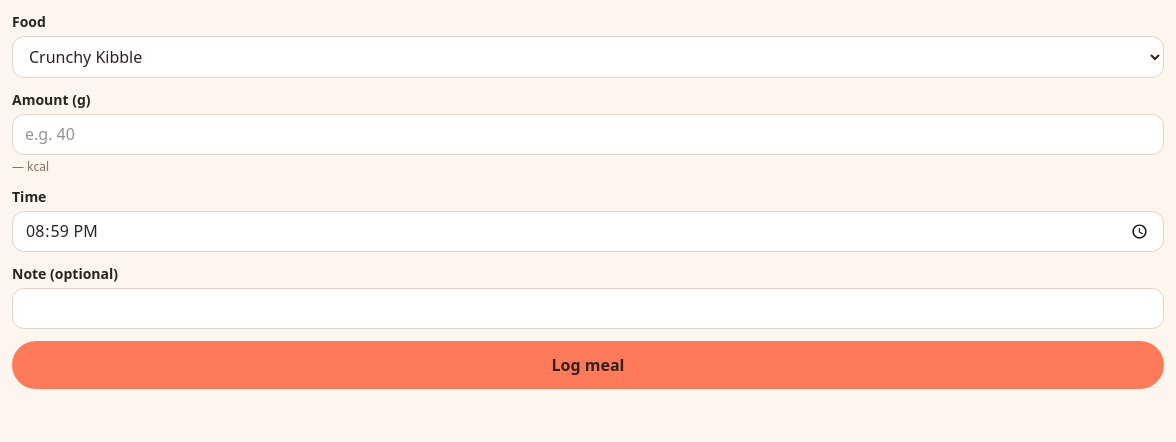
Scenario: LogMealForm › blocks submit with a message when grams is empty
Step 1. Click the button with test id "meal-save" → (588, 364), box [12, 340, 1164, 388]
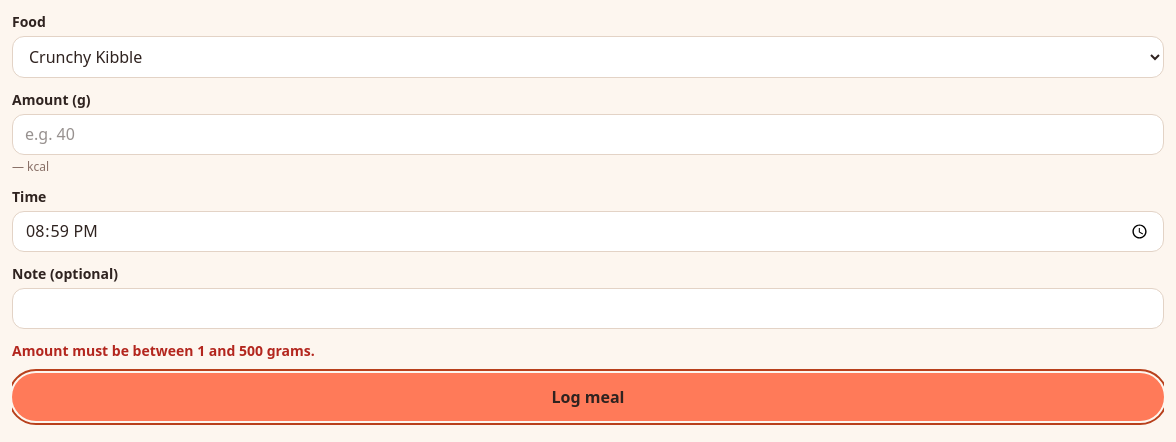
Expected: the message reads "Amount must be between 1 and 500 grams.", [12, 340, 315, 360]
